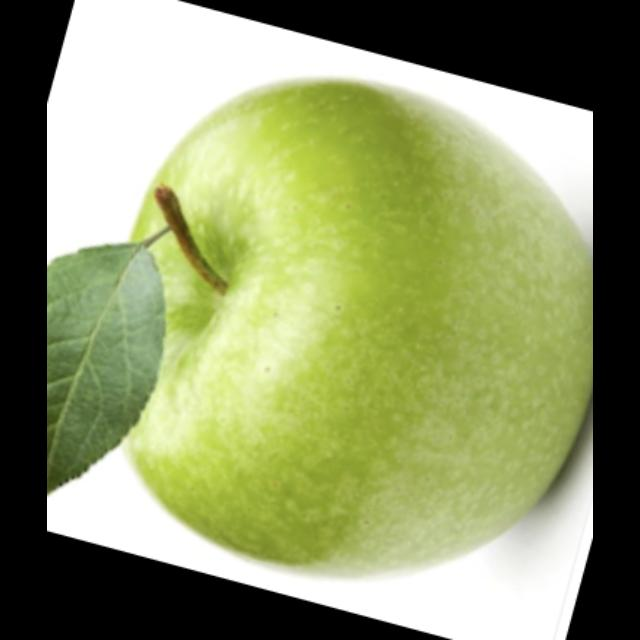Apel Segar: (47, 79, 593, 584)
